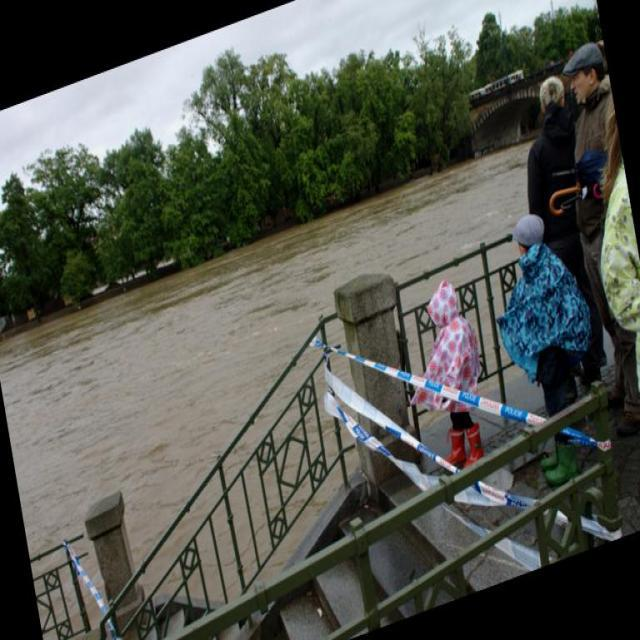flood: (0, 119, 549, 544)
